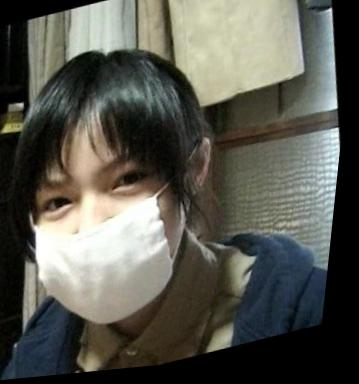WRONG: (21, 141, 208, 332)
